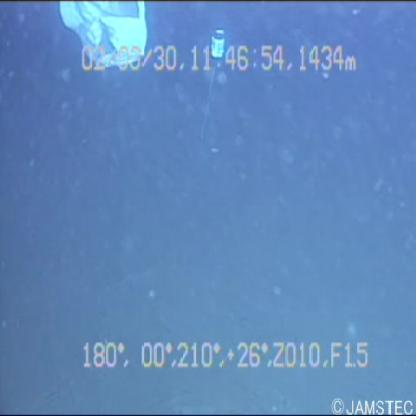Rác: (52, 1, 156, 69)
